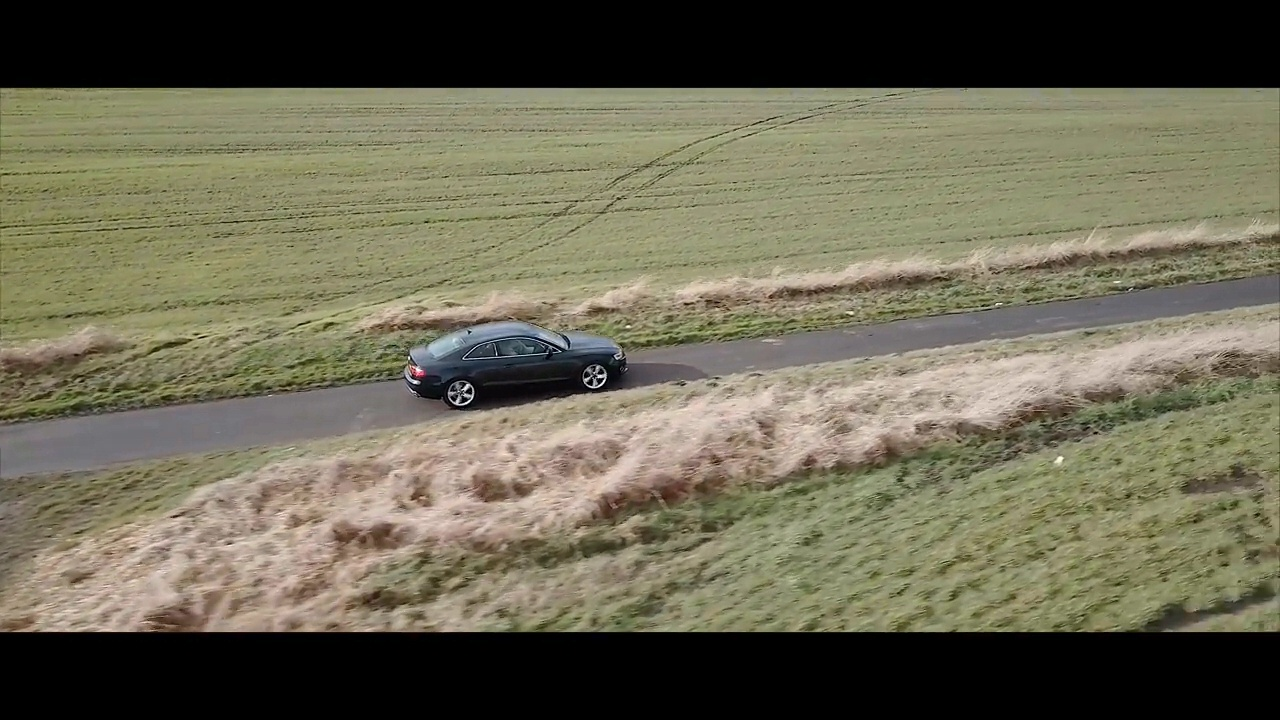araba: (401, 317, 633, 412)
